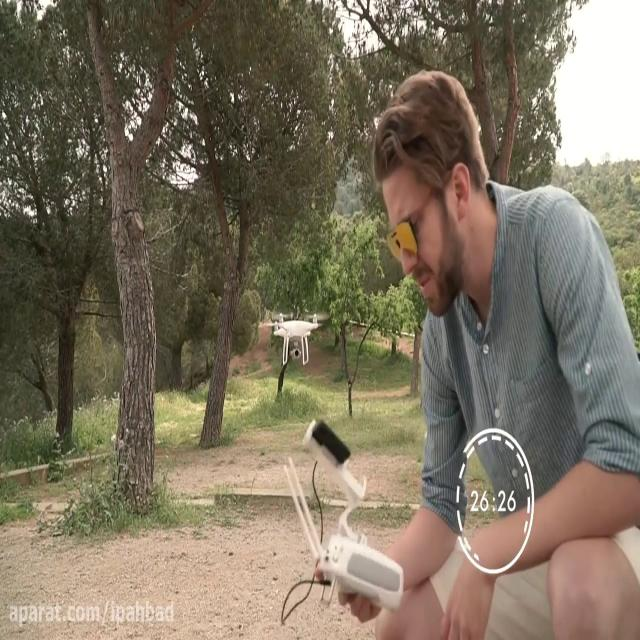drone: (265, 305, 331, 366)
